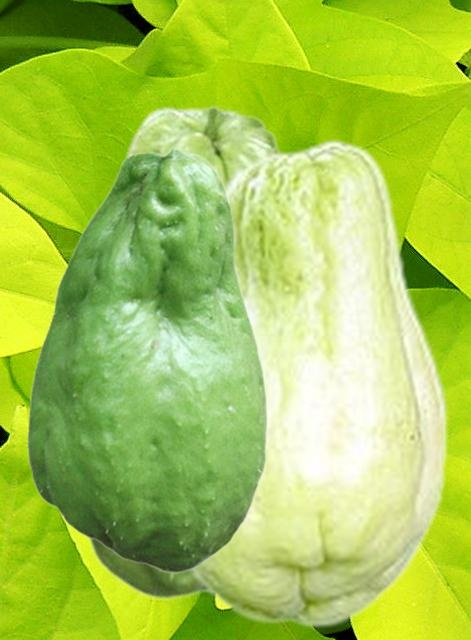sayote: (183, 138, 447, 628), (26, 146, 267, 572), (85, 104, 282, 601)
